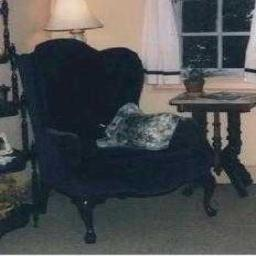Chair: (14, 38, 220, 243)
